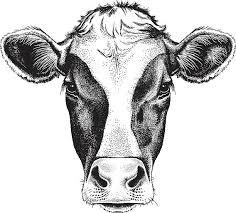cow: (0, 6, 236, 213)
